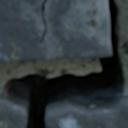brick: (0, 0, 110, 61)
broken_brick: (47, 95, 127, 127), (0, 94, 25, 127)
crack: (1, 0, 127, 127)
